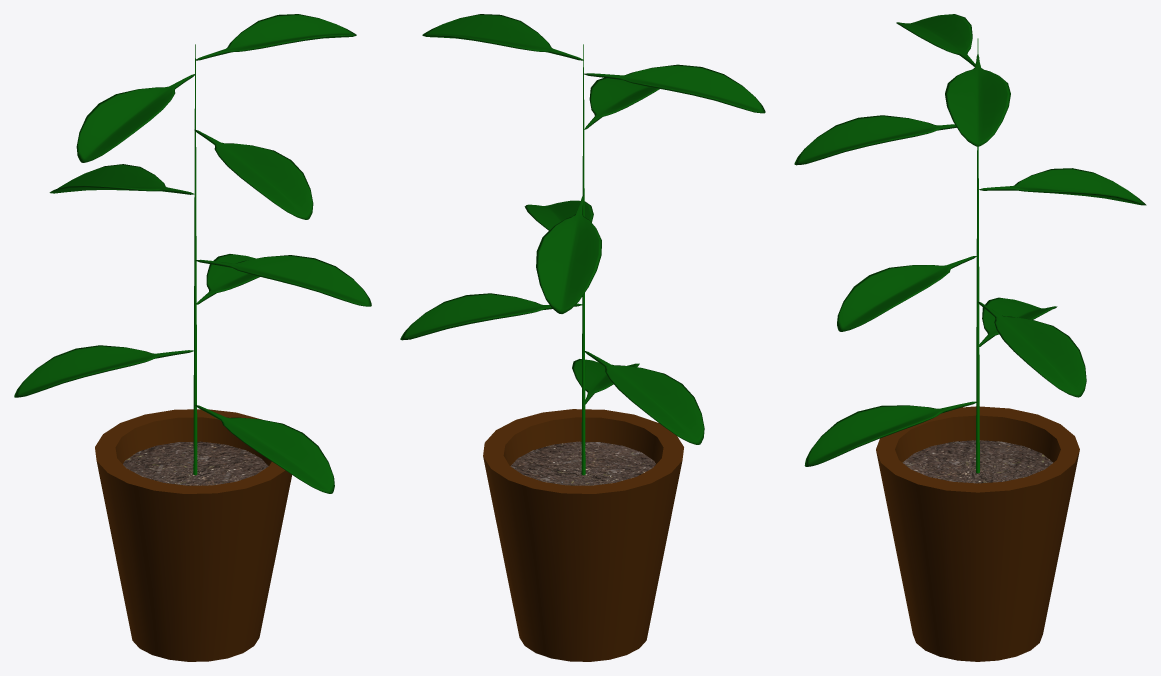
Rendered from potter_plant.fbx.
The picture shows the model from 3 angles, left to right: view 1: azimuth 30°, elevation 25°; view 2: azimuth 150°, elevation 25°; view 3: azimuth 270°, elevation 25°; orthographic projection.
Visible parts, largest first — view 1: Potted_Plant; view 2: Potted_Plant; view 3: Potted_Plant.
Part boxes in pixels (x1,y1,x2,y2): Potted_Plant: (14, 14, 371, 661); Potted_Plant: (400, 14, 765, 661); Potted_Plant: (794, 14, 1146, 661).
Bounding box in the file's own units: 3.53 × 6.44 × 3.45.
